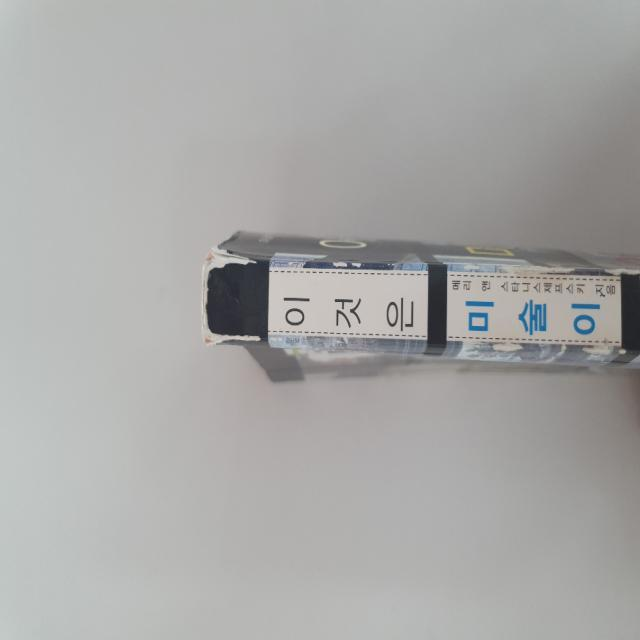Ripped: (199, 241, 262, 270), (201, 329, 264, 358)
Wornout: (196, 270, 213, 329), (496, 262, 579, 274), (602, 266, 639, 278), (491, 342, 525, 353), (330, 259, 365, 268), (580, 347, 612, 356), (617, 347, 629, 356)
